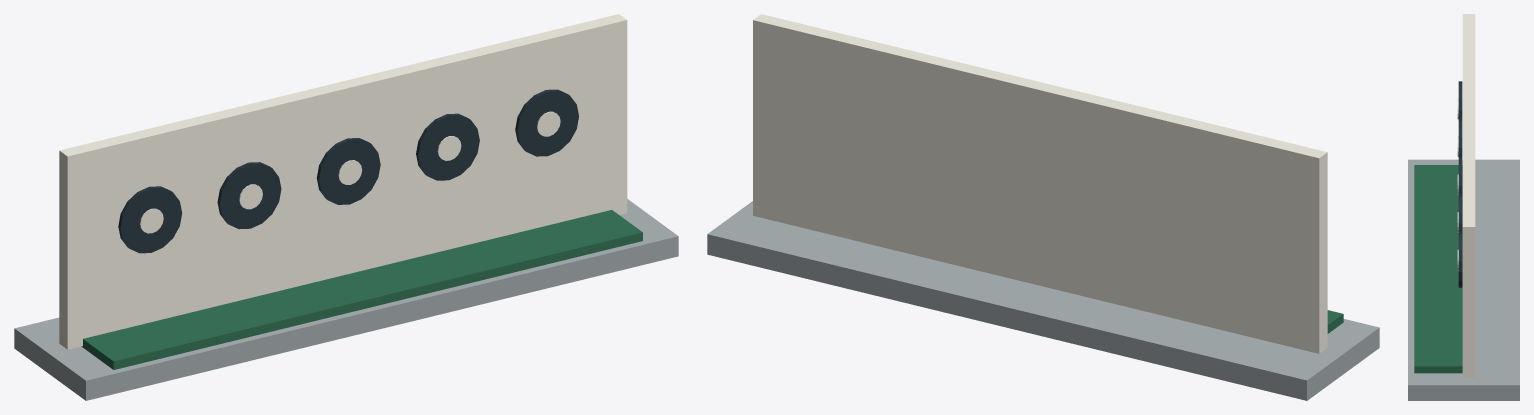
File: scendance-plan-targets-control.glb
The picture shows the model from 3 angles, left to right: view 1: azimuth 30°, elevation 25°; view 2: azimuth 150°, elevation 25°; view 3: azimuth 270°, elevation 25°; orthographic projection. The views are drawn at different scales.
Size of the model in its own units: 2.15 by 0.745 by 0.45.
